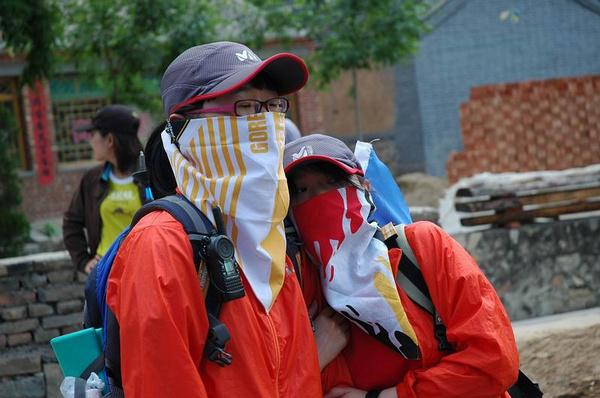NONE: (90, 132, 118, 163)
OK: (180, 82, 288, 190), (293, 168, 365, 245)
